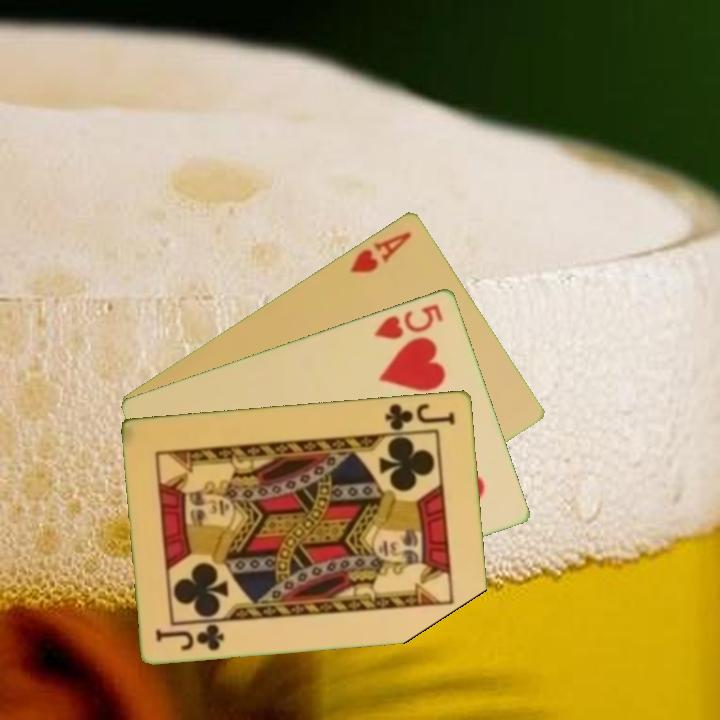5h: (370, 300, 447, 342)
Ah: (346, 227, 415, 276)
Jc: (382, 399, 459, 433), (152, 620, 227, 653)
